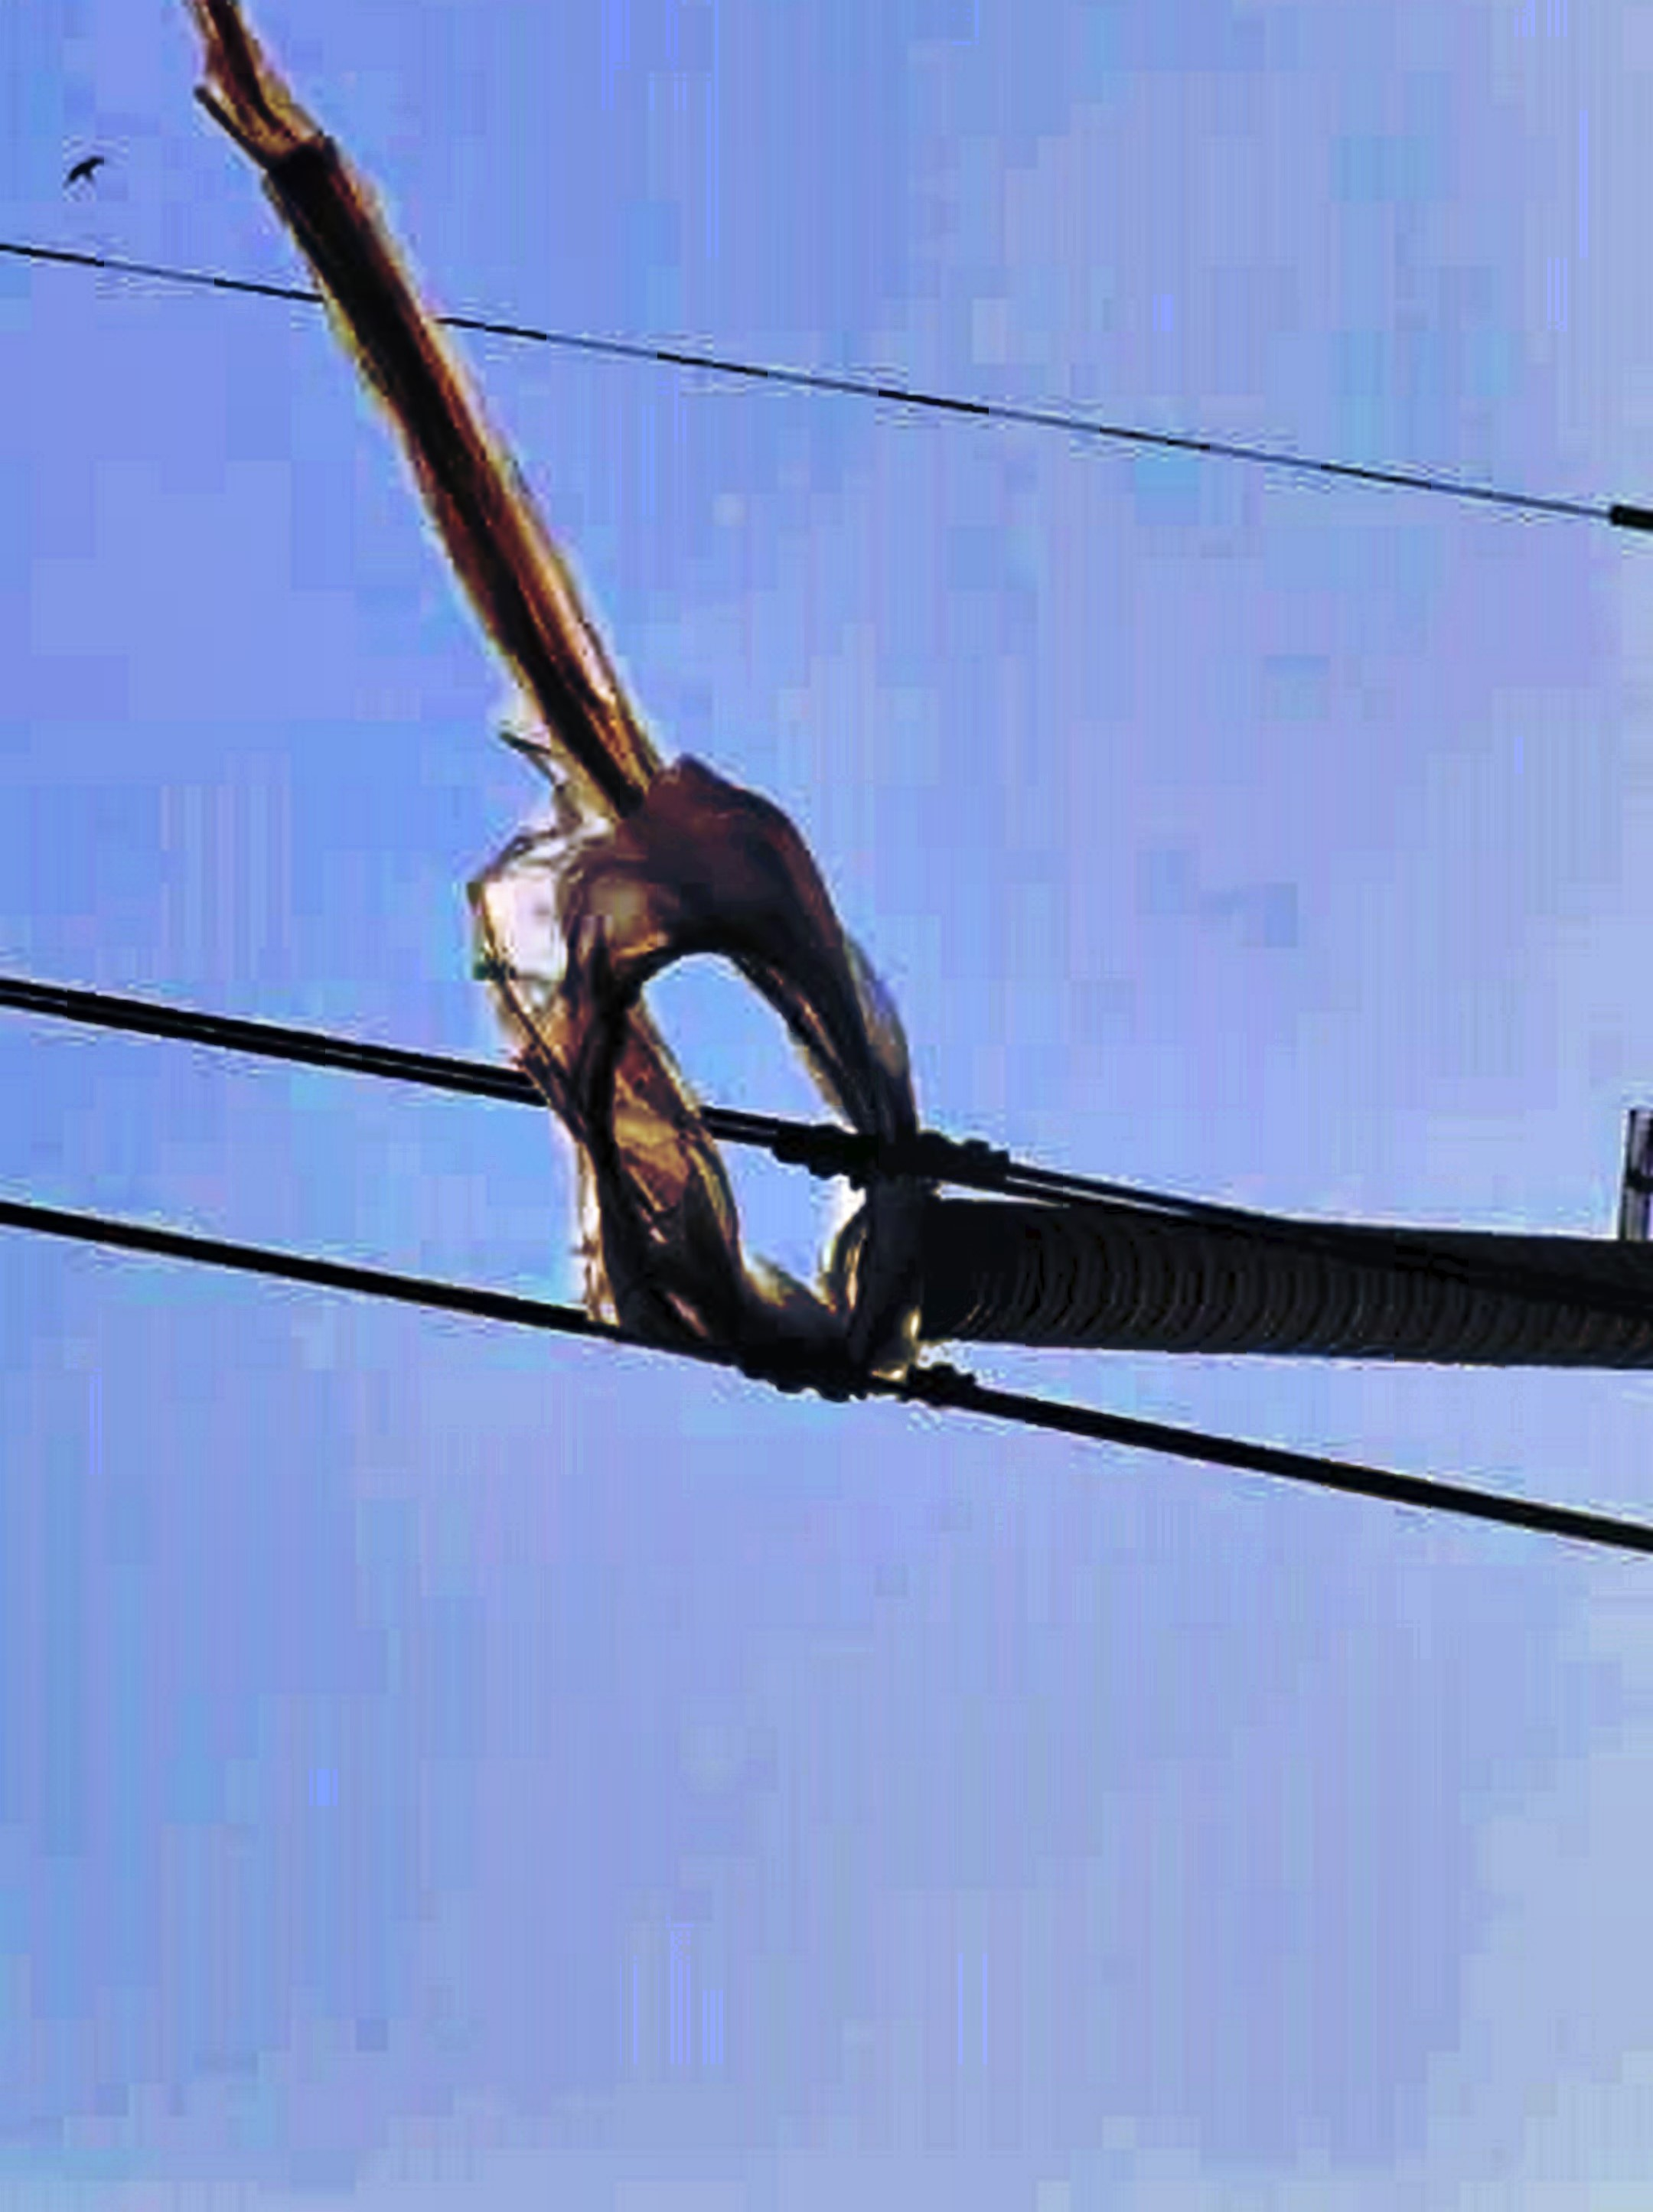wire foreign body: (290, 64, 957, 1389)
